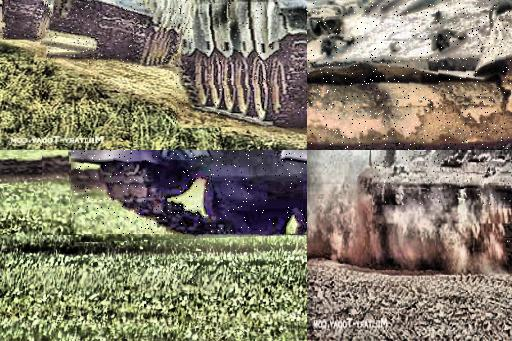tanks: (308, 1, 512, 151), (72, 151, 308, 235), (174, 1, 308, 126), (48, 1, 192, 68), (374, 151, 512, 206), (2, 2, 54, 41), (507, 225, 512, 233), (506, 241, 512, 247)
